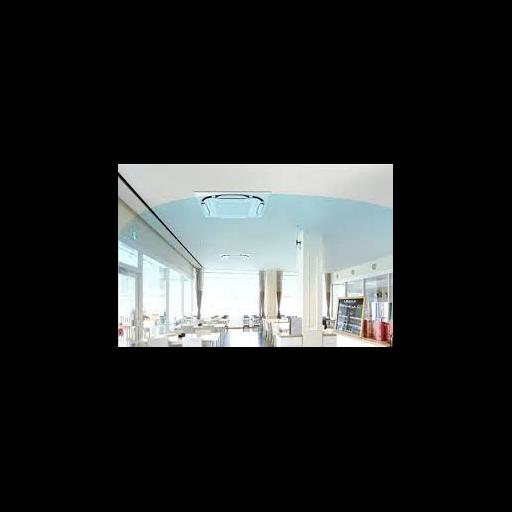4-way-ac: (198, 192, 268, 220)
